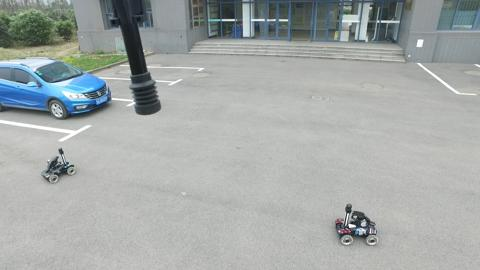car: (1, 58, 112, 120)
chariot: (334, 202, 378, 246), (40, 146, 76, 184)
